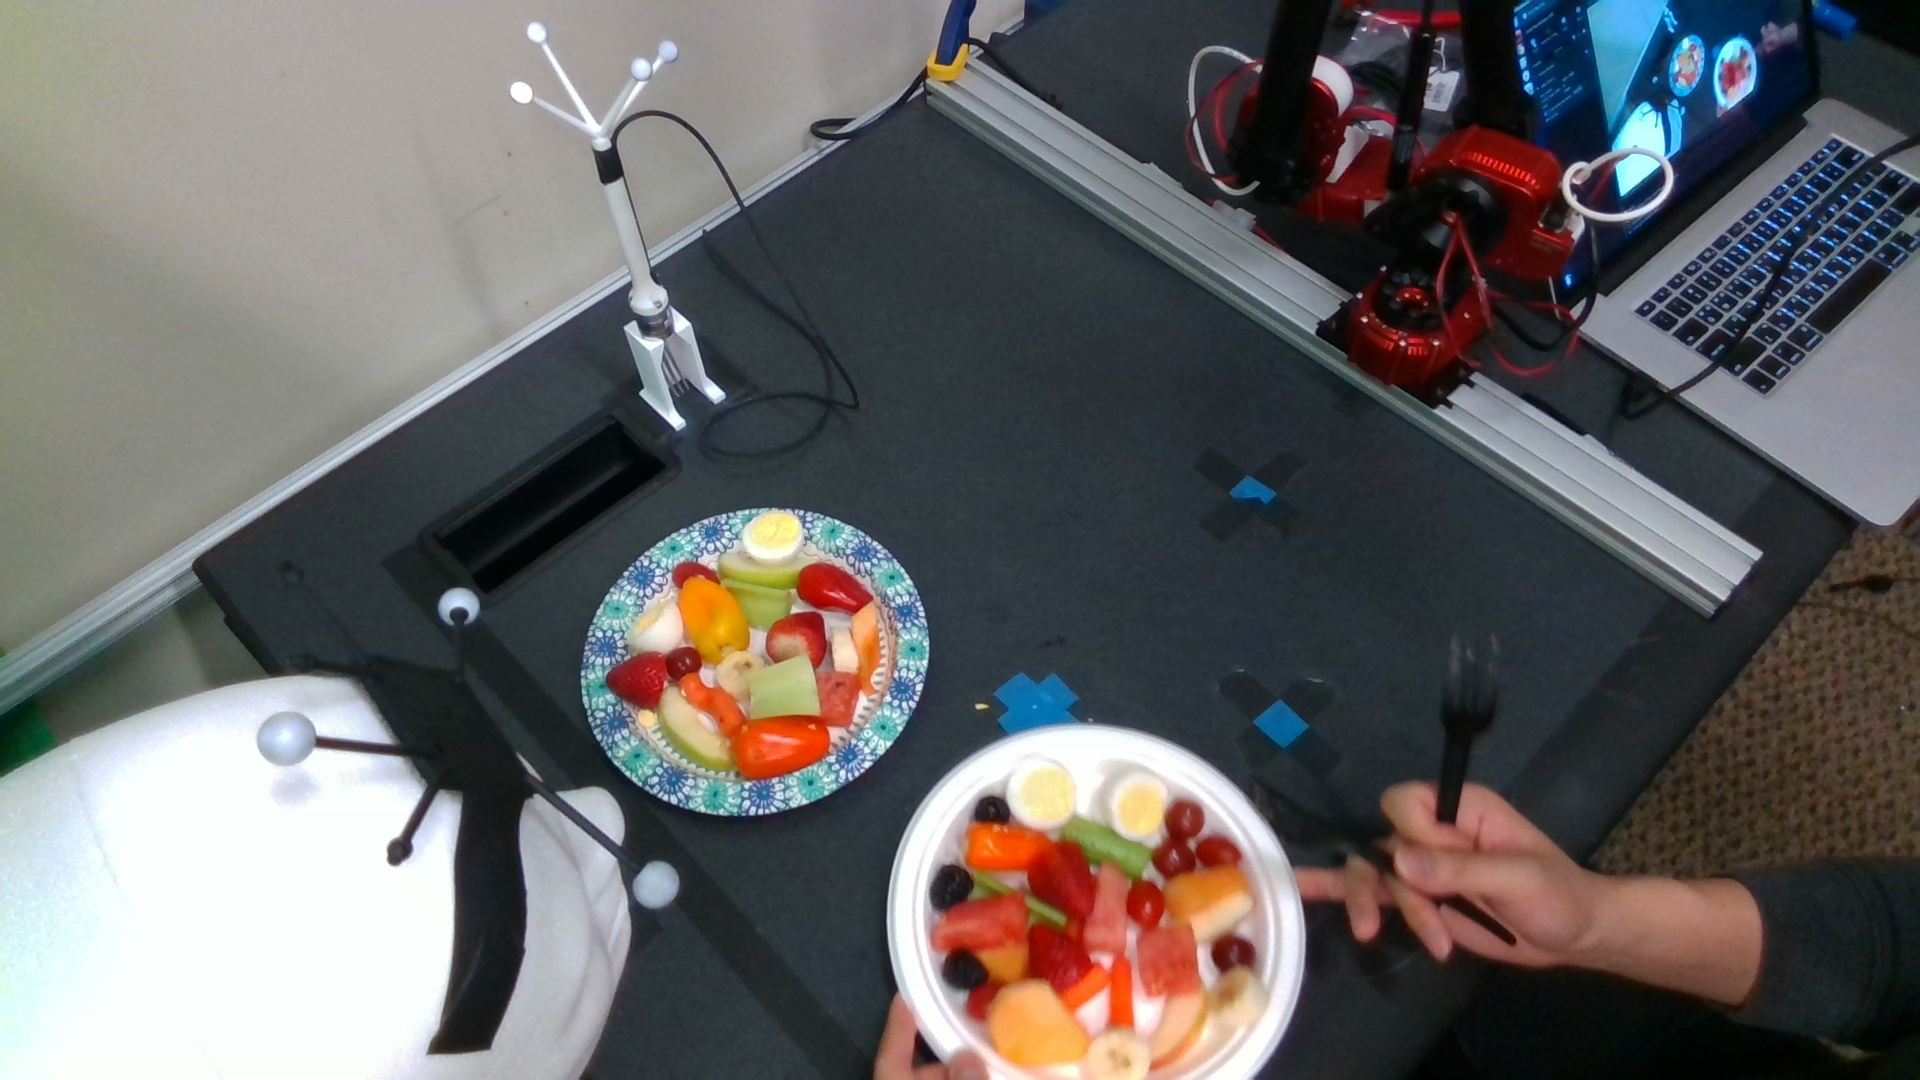apple: (659, 688, 732, 770), (720, 555, 800, 588)
banana: (1147, 980, 1209, 1069), (1211, 967, 1269, 1027), (1088, 1033, 1151, 1080), (717, 651, 767, 698), (832, 626, 858, 673)
bell_pepper: (732, 717, 831, 779), (680, 578, 750, 663), (965, 822, 1050, 872), (799, 563, 872, 613)
blackberry: (928, 865, 971, 909), (942, 948, 988, 986), (975, 798, 1009, 822)
cantalope: (989, 978, 1088, 1065), (1166, 866, 1245, 916), (851, 603, 882, 695)
carrot: (680, 675, 746, 735), (1109, 957, 1135, 1029)
celery: (1062, 818, 1150, 876), (749, 653, 820, 719), (721, 579, 793, 630)
cherry_tomato: (1126, 880, 1164, 930), (1197, 835, 1242, 866), (671, 563, 719, 588)
egg: (1007, 760, 1076, 829), (1101, 771, 1168, 841), (744, 512, 802, 564), (626, 600, 683, 651)
grape: (1154, 841, 1196, 882), (1211, 938, 1255, 975), (1168, 799, 1204, 837), (669, 647, 702, 679)
melon: (934, 894, 1029, 949), (1138, 927, 1200, 996), (1085, 861, 1127, 953), (814, 673, 858, 727)
plate: (885, 724, 1305, 1080), (579, 506, 928, 818)
strawberry: (1031, 841, 1096, 916), (1029, 923, 1091, 989), (764, 611, 824, 665), (608, 653, 666, 708)
